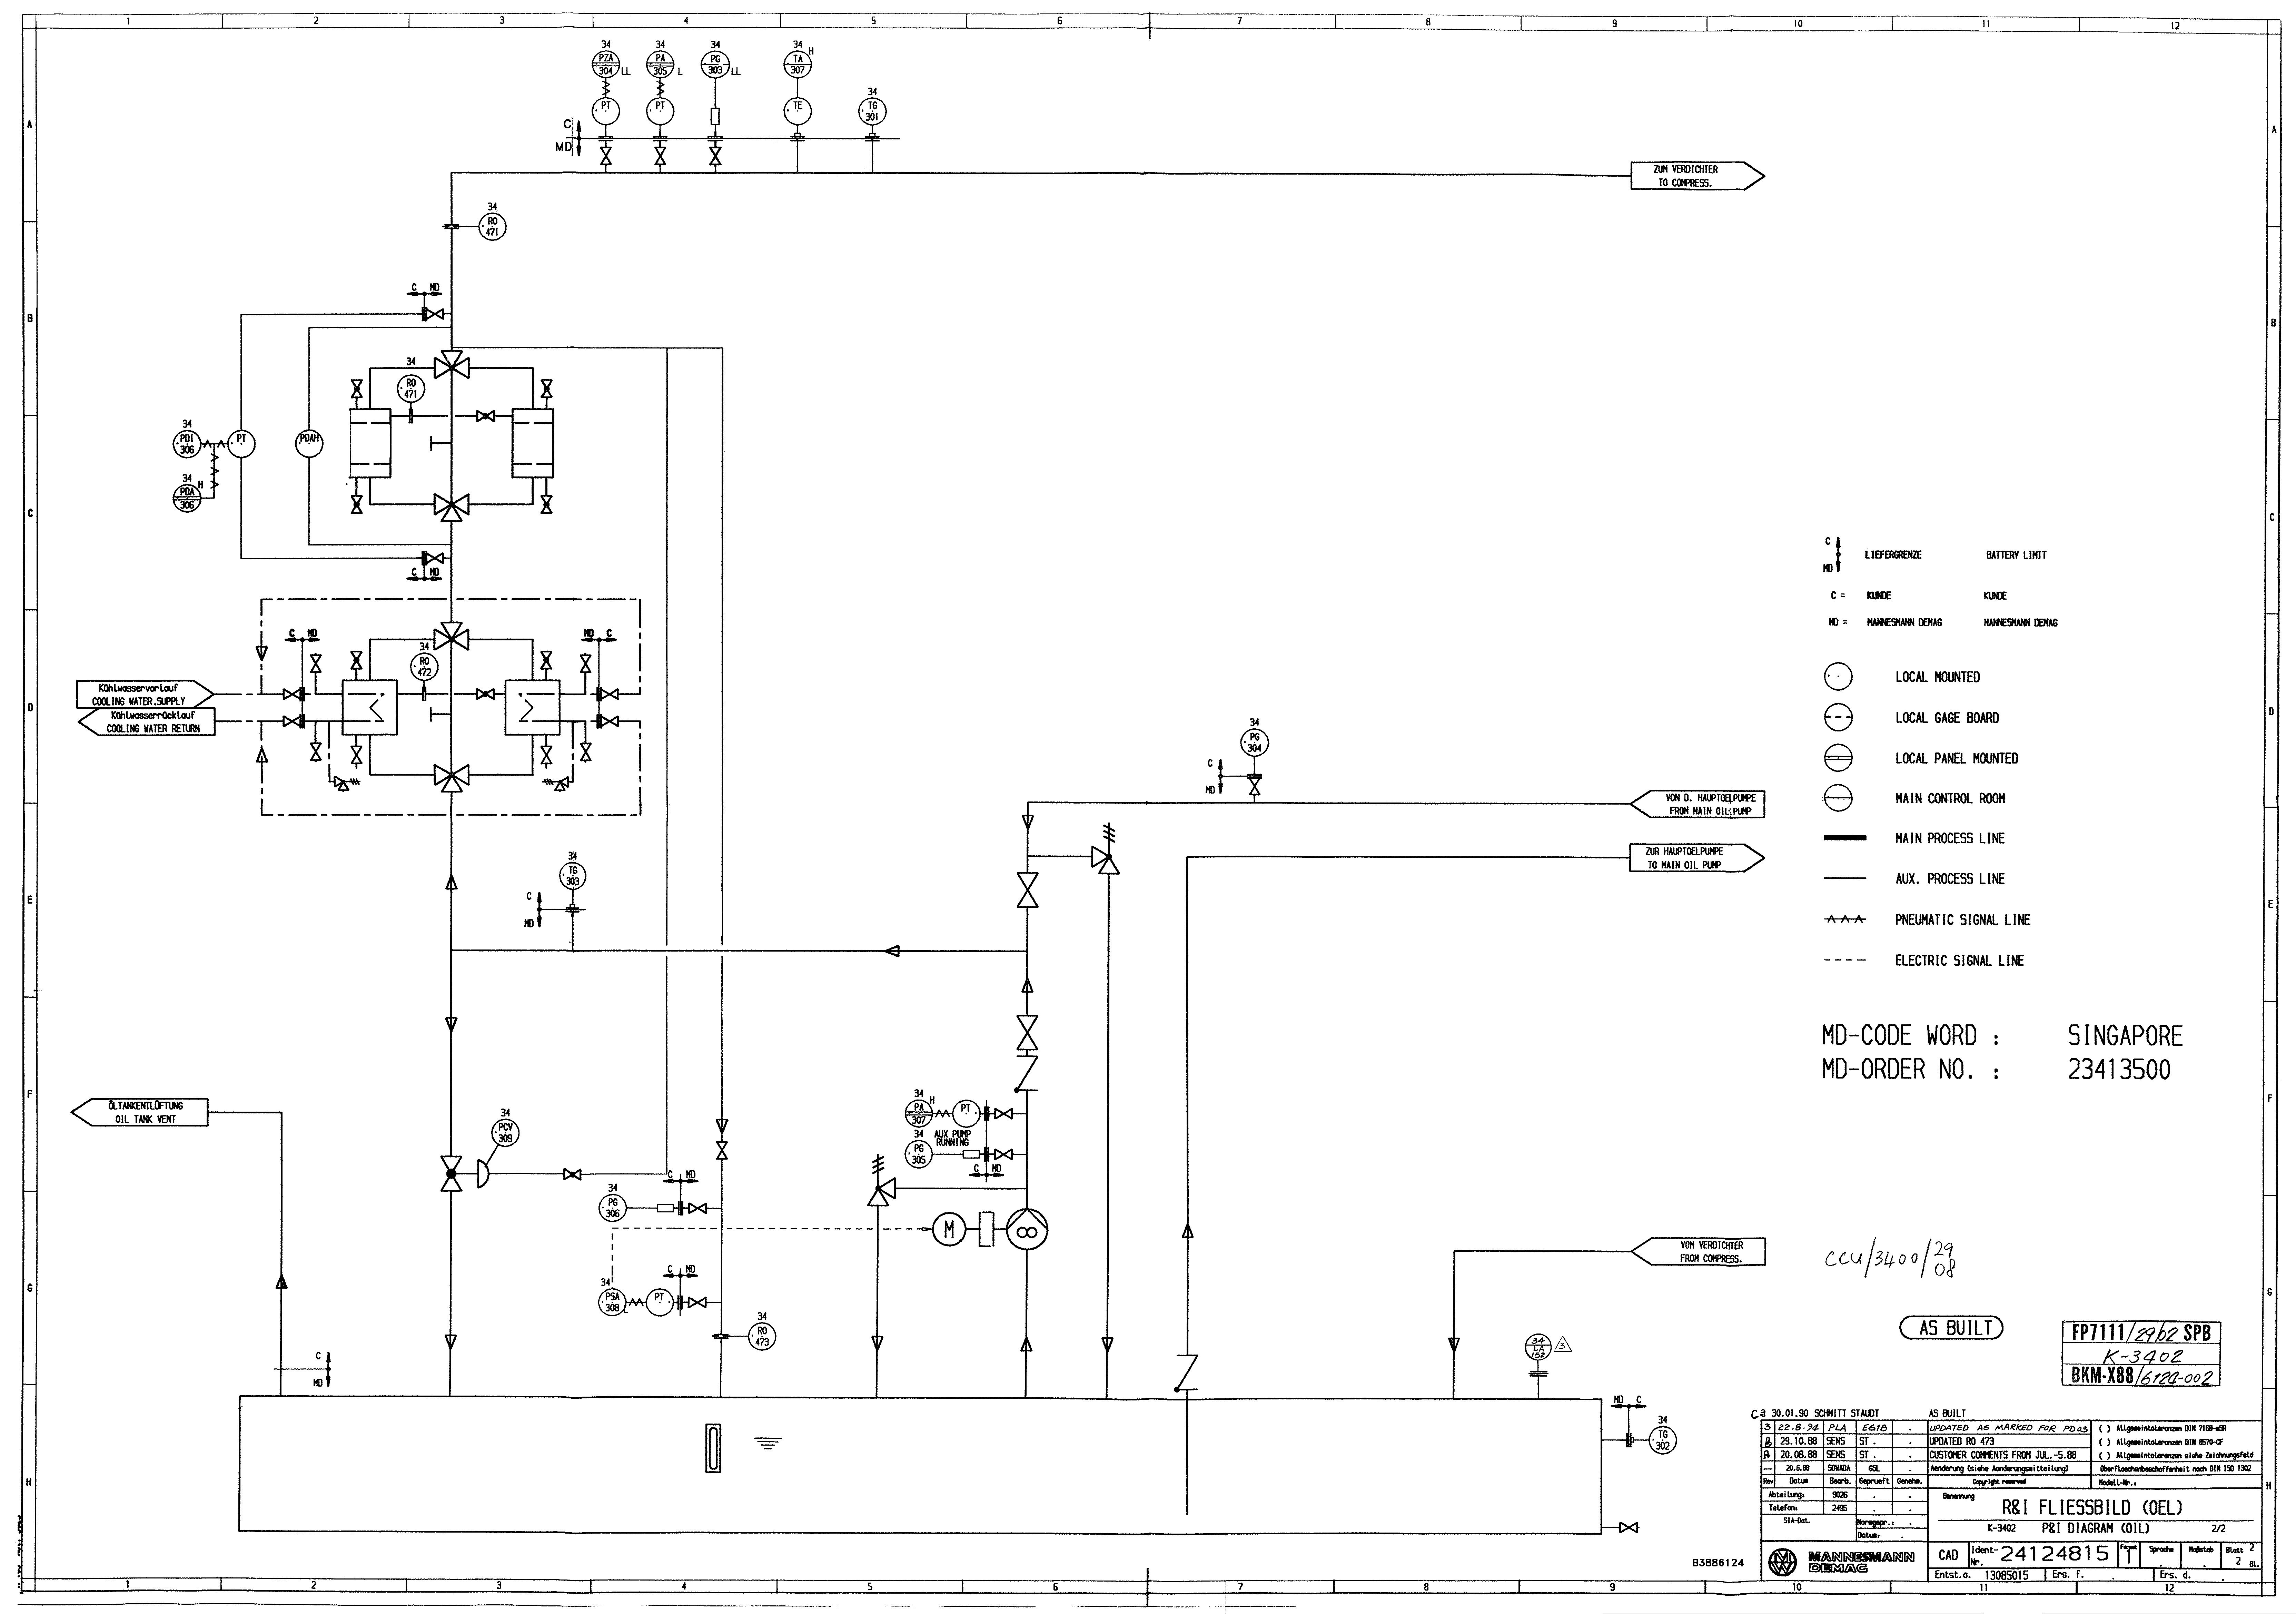Inline Instrument: (780, 94, 815, 128), (1645, 1424, 1680, 1457), (950, 1097, 983, 1130), (1238, 725, 1271, 758), (223, 428, 258, 459), (395, 372, 430, 403), (588, 94, 623, 126), (594, 1286, 629, 1317), (901, 1137, 936, 1169), (169, 428, 203, 459), (292, 428, 325, 459), (477, 211, 510, 243), (856, 96, 889, 128), (643, 96, 676, 128), (407, 650, 440, 681), (555, 859, 588, 891), (489, 1118, 522, 1149), (597, 1193, 630, 1224), (747, 1321, 780, 1352), (644, 1286, 677, 1317)
